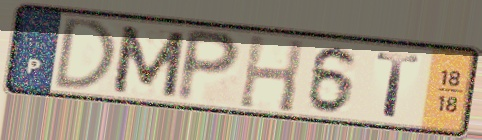6: (306, 44, 361, 115)
D: (50, 15, 119, 92)
H: (235, 32, 308, 115)
M: (108, 22, 189, 100)
P: (173, 25, 245, 106)
T: (374, 50, 423, 121)
